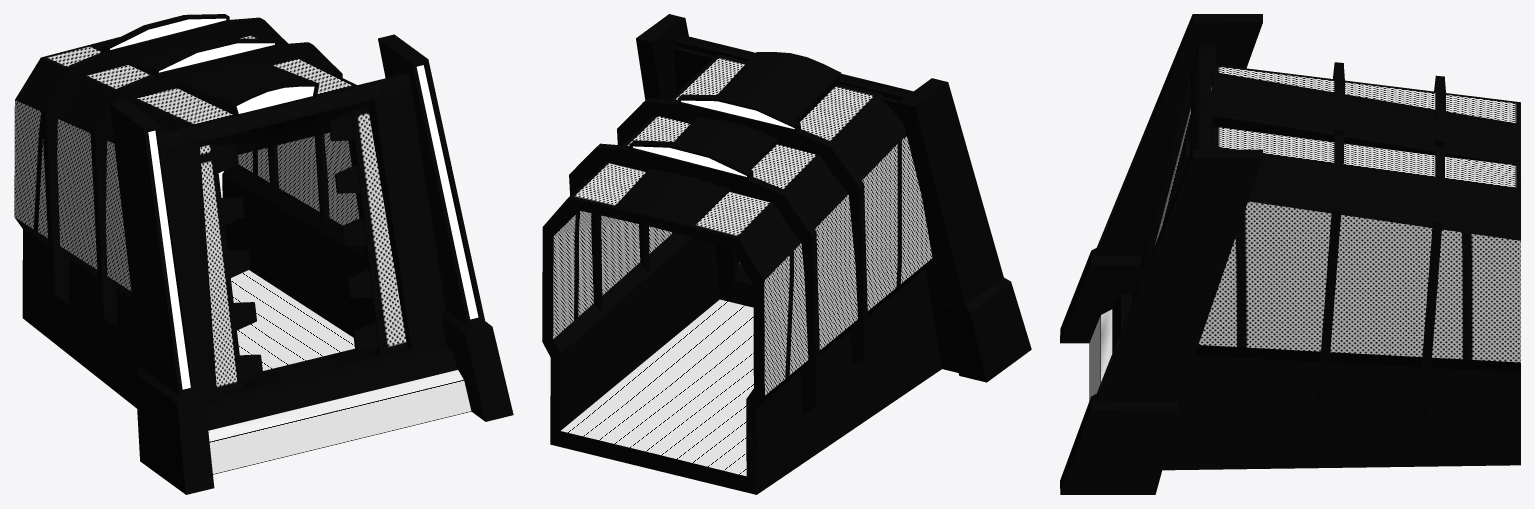
File: exterior-door.glb
3 renders of one model, left to right at view 1: azimuth 30°, elevation 25°; view 2: azimuth 150°, elevation 25°; view 3: azimuth 270°, elevation 25°, orthographic. The views are drawn at different scales.
Parts seen in each view (by area): view 1: ExteriorDoor; view 2: ExteriorDoor; view 3: ExteriorDoor.
Boxes of the visible parts, x1,y1,x2,y2 form: ExteriorDoor: [14, 14, 513, 494]; ExteriorDoor: [542, 14, 1031, 494]; ExteriorDoor: [1060, 14, 1520, 494].
Size of the model in its own units: 8.23 by 7.54 by 9.66.
Materials: 4 (2 with a texture image).
